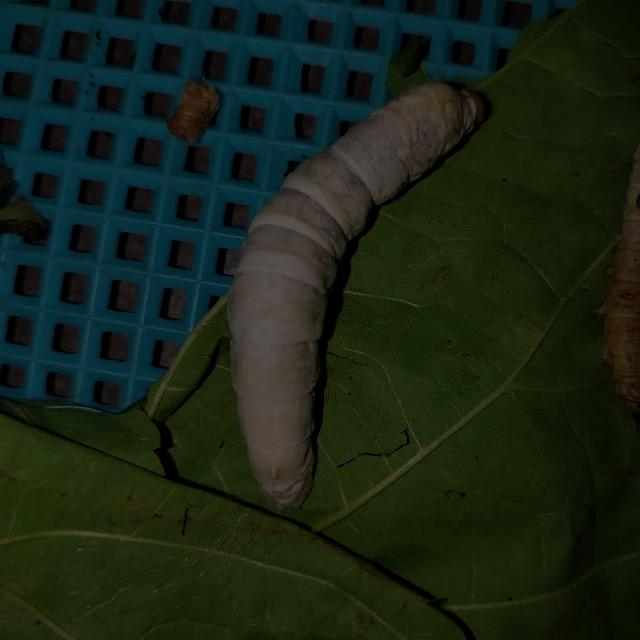Grasserie: (208, 65, 499, 522)
